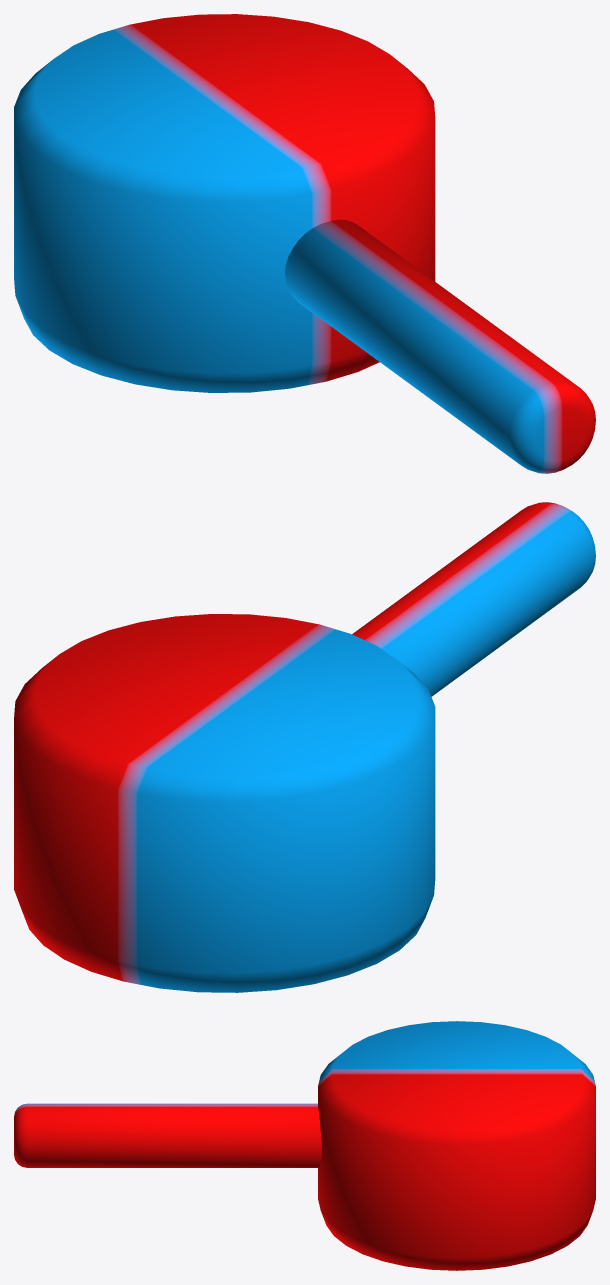
Rendered from sink_handle.fbx.
3 renders of one model, top to bottom at view 1: azimuth 30°, elevation 25°; view 2: azimuth 150°, elevation 25°; view 3: azimuth 270°, elevation 25°, orthographic. The views are drawn at different scales.
Visible parts, largest first — view 1: Cylinder.001; view 2: Cylinder.001; view 3: Cylinder.001.
Part boxes in pixels (box(x1,y1,x2,y2)): Cylinder.001: box(14, 14, 595, 473); Cylinder.001: box(14, 502, 595, 992); Cylinder.001: box(14, 1021, 595, 1270).
Bounding box in the file's own units: 200 × 111 × 419.
1 material, 1 textured.
